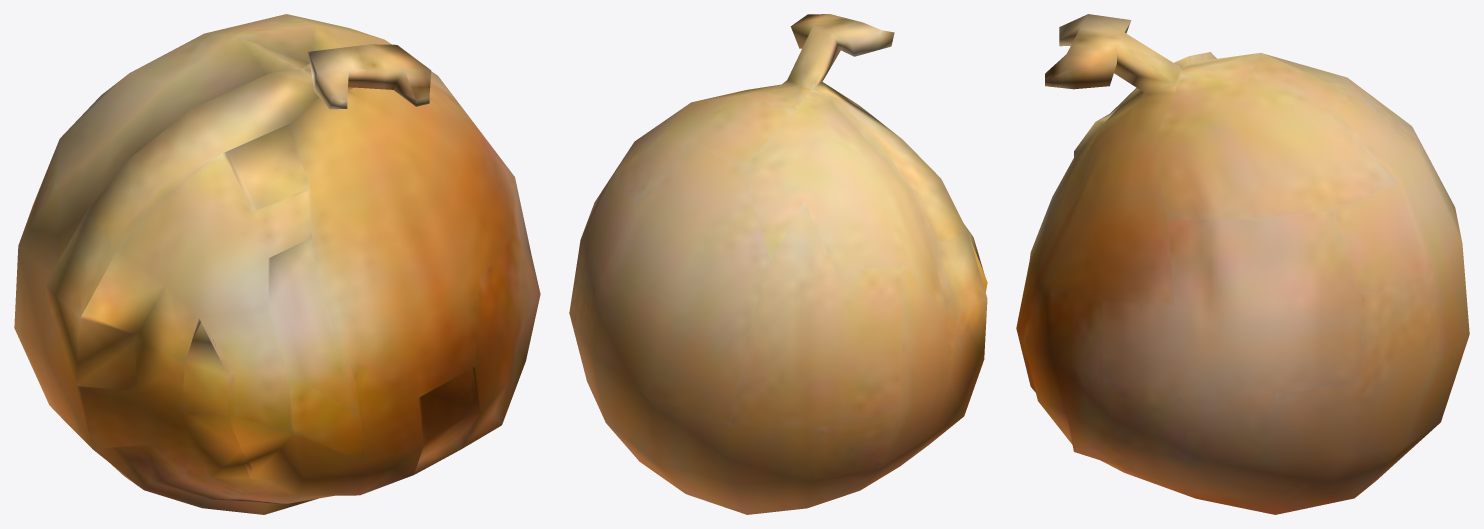
Rendered from onion.glb.
3 views of the same model, side by side, from view 1: azimuth 30°, elevation 25°; view 2: azimuth 150°, elevation 25°; view 3: azimuth 270°, elevation 25° (orthographic). The views are drawn at different scales.
Parts seen in each view (by area): view 1: Onion; view 2: Onion; view 3: Onion.
Part boxes in pixels (x1,y1,x2,y2): Onion: [14, 14, 540, 514]; Onion: [569, 14, 987, 514]; Onion: [1016, 14, 1469, 514].
Size of the model in its own units: 1.47 by 1.54 by 1.41.
1 material, 1 textured.
